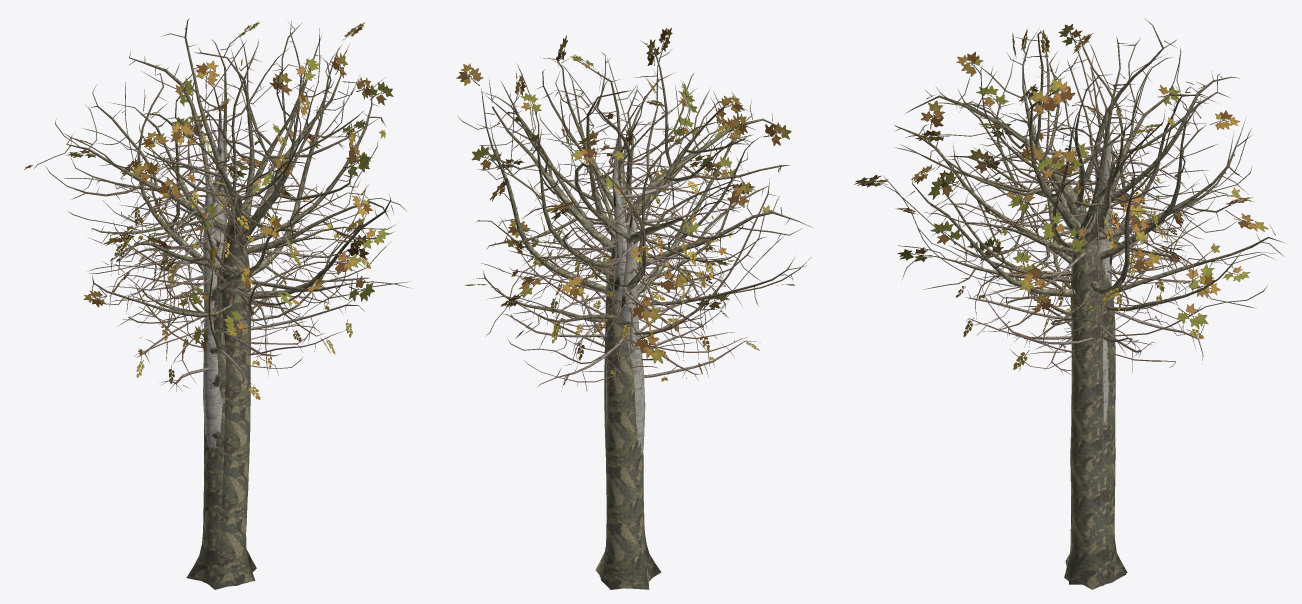
The model's file is heron-reach-winter.glb.
The picture shows the model from 3 angles, left to right: view 1: azimuth 30°, elevation 25°; view 2: azimuth 150°, elevation 25°; view 3: azimuth 270°, elevation 25°; orthographic projection. The views are drawn at different scales.
Parts seen in each view (by area): view 1: TREE_PLANE_A_bark, TREE_PLANE_B_bark, TREE_BIRCH_B_bark, TREE_BIRCH_A_bark, TREE_PLANE_B_leaves, TREE_PLANE_A_leaves, TREE_BIRCH_A_leaves, TREE_BIRCH_B_leaves; view 2: TREE_PLANE_B_bark, TREE_PLANE_A_bark, TREE_BIRCH_A_bark, TREE_BIRCH_B_bark, TREE_PLANE_B_leaves, TREE_PLANE_A_leaves, TREE_BIRCH_A_leaves, TREE_BIRCH_B_leaves; view 3: TREE_PLANE_A_bark, TREE_PLANE_B_bark, TREE_BIRCH_A_bark, TREE_PLANE_A_leaves, TREE_PLANE_B_leaves, TREE_BIRCH_B_bark, TREE_BIRCH_A_leaves, TREE_BIRCH_B_leaves.
Boxes of the visible parts, <box> form: TREE_PLANE_A_bark: <box>33,18,411,588</box>; TREE_PLANE_B_bark: <box>102,30,393,589</box>; TREE_BIRCH_B_bark: <box>102,139,318,447</box>; TREE_BIRCH_A_bark: <box>109,78,368,382</box>; TREE_PLANE_B_leaves: <box>109,21,393,305</box>; TREE_PLANE_A_leaves: <box>24,53,374,352</box>; TREE_BIRCH_A_leaves: <box>116,140,370,383</box>; TREE_BIRCH_B_leaves: <box>110,163,286,399</box>; TREE_PLANE_B_bark: <box>457,58,778,589</box>; TREE_PLANE_A_bark: <box>477,40,812,588</box>; TREE_BIRCH_A_bark: <box>503,96,744,428</box>; TREE_BIRCH_B_bark: <box>524,160,760,453</box>; TREE_PLANE_B_leaves: <box>456,39,791,363</box>; TREE_PLANE_A_leaves: <box>471,27,794,322</box>; TREE_BIRCH_A_leaves: <box>531,153,732,381</box>; TREE_BIRCH_B_leaves: <box>551,173,759,385</box>; TREE_PLANE_A_bark: <box>898,19,1251,585</box>; TREE_PLANE_B_bark: <box>882,28,1284,589</box>; TREE_BIRCH_A_bark: <box>951,52,1208,424</box>; TREE_PLANE_A_leaves: <box>897,24,1268,314</box>; TREE_PLANE_B_leaves: <box>854,28,1253,329</box>; TREE_BIRCH_B_bark: <box>966,112,1205,375</box>; TREE_BIRCH_A_leaves: <box>963,107,1177,371</box>; TREE_BIRCH_B_leaves: <box>956,163,1203,339</box>.
Size of the model in its own units: 4.94 by 7.59 by 5.53.
4 materials, 4 textured.
